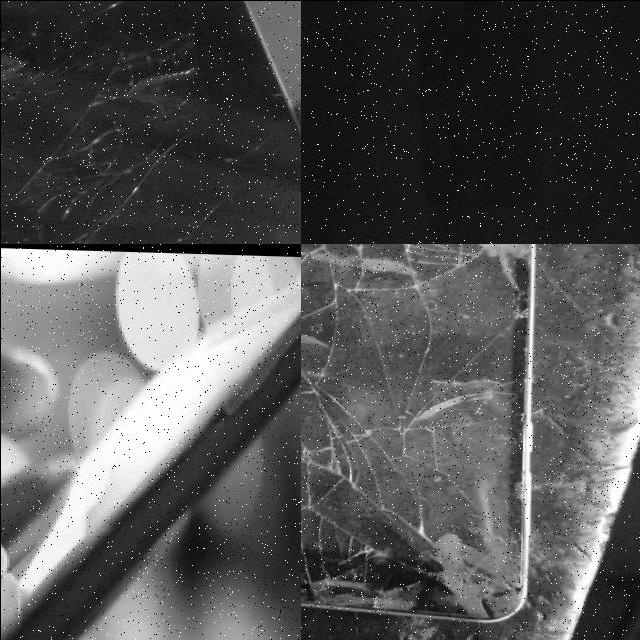screen crack: (300, 243, 563, 624), (0, 26, 202, 243)
